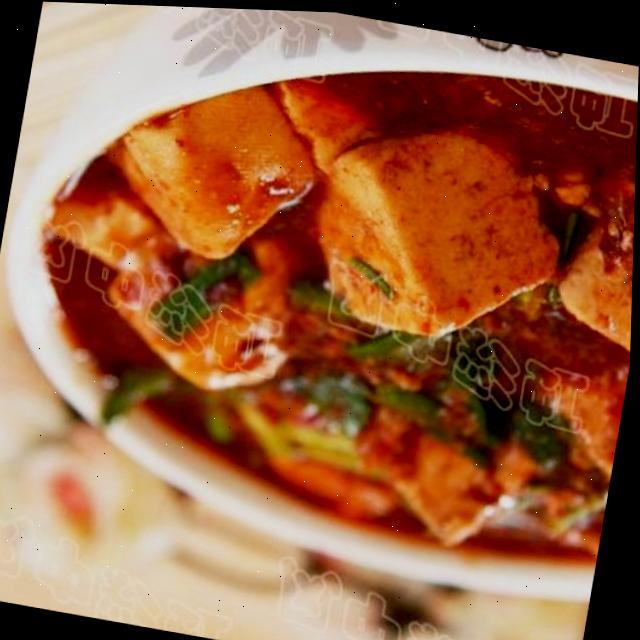豆腐料理: (0, 0, 640, 614)
